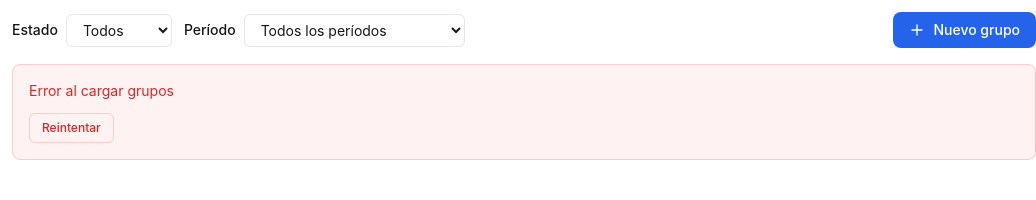
Scenario: GruposList › debería mostrar error y permitir reintentar
The image size is (1036, 200).
Check: the text "Error al cargar grupos" is shown, box top-left (29, 82), bottom-right (174, 99)
Click the button "Reintentar": (71, 128) top-left (29, 113), bottom-right (114, 143)
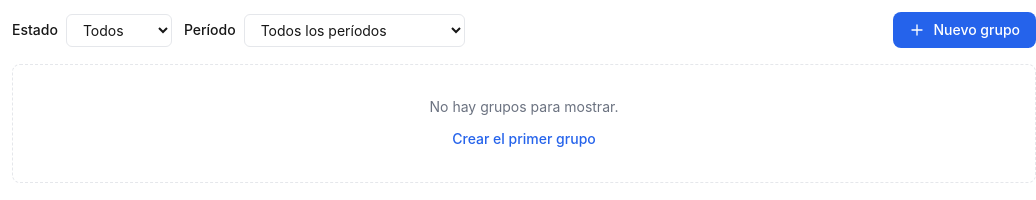
Check: the text "No hay grupos para mostrar." is shown, box top-left (430, 98), bottom-right (618, 115)
